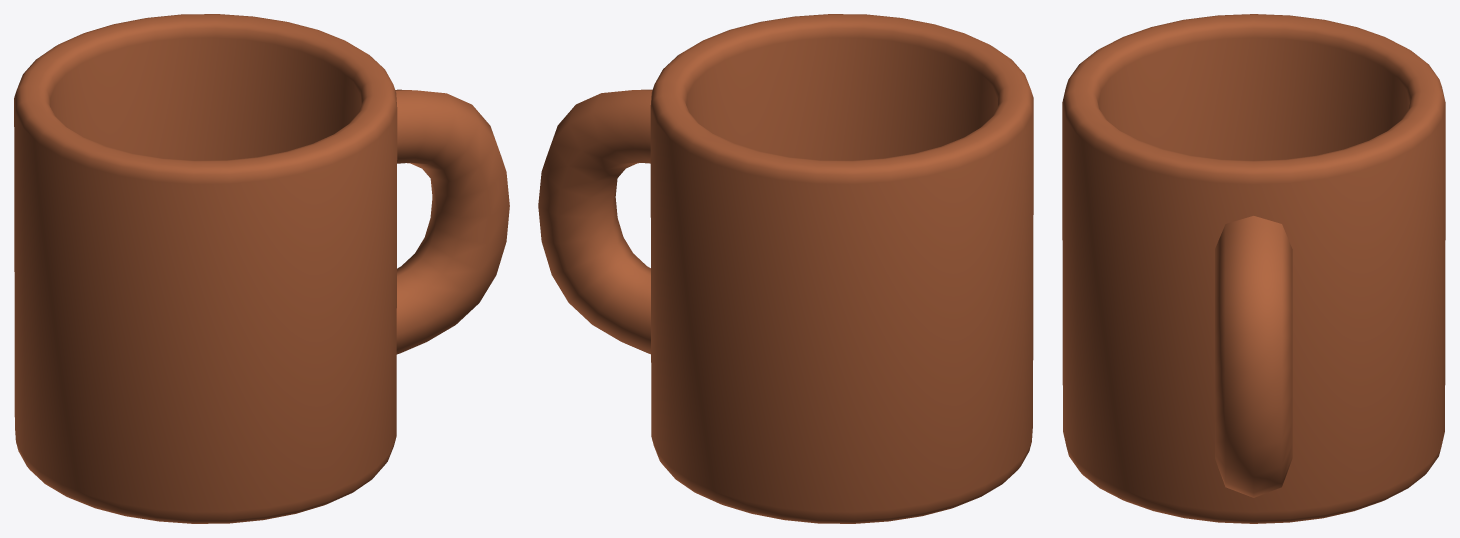
The model's file is SM_coffee_mug_red.glb.
3 renders of one model, left to right at view 1: azimuth 30°, elevation 25°; view 2: azimuth 150°, elevation 25°; view 3: azimuth 270°, elevation 25°, orthographic.
Visible parts, largest first — view 1: SM_coffee_mug_red; view 2: SM_coffee_mug_red; view 3: SM_coffee_mug_red.
Boxes of the visible parts, x1,y1,x2,y2 form: SM_coffee_mug_red: (14,14,509,523); SM_coffee_mug_red: (538,14,1033,523); SM_coffee_mug_red: (1062,14,1445,523).
Size of the model in its own units: 0.2716 by 0.2002 by 0.194.
Materials: 1 (1 with a texture image).
